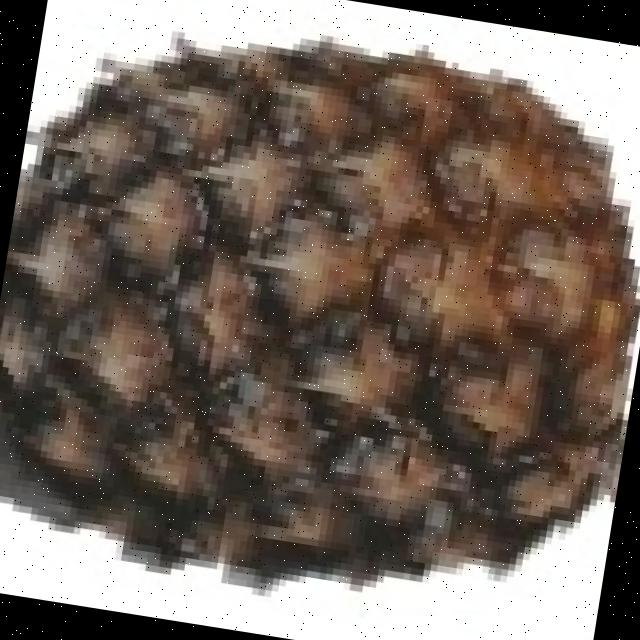pineapple: (0, 43, 640, 587)
